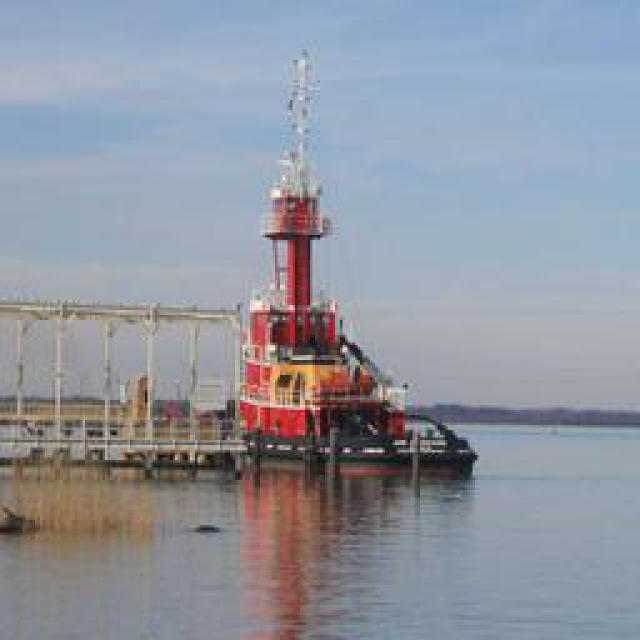Ship: (224, 72, 484, 487)
